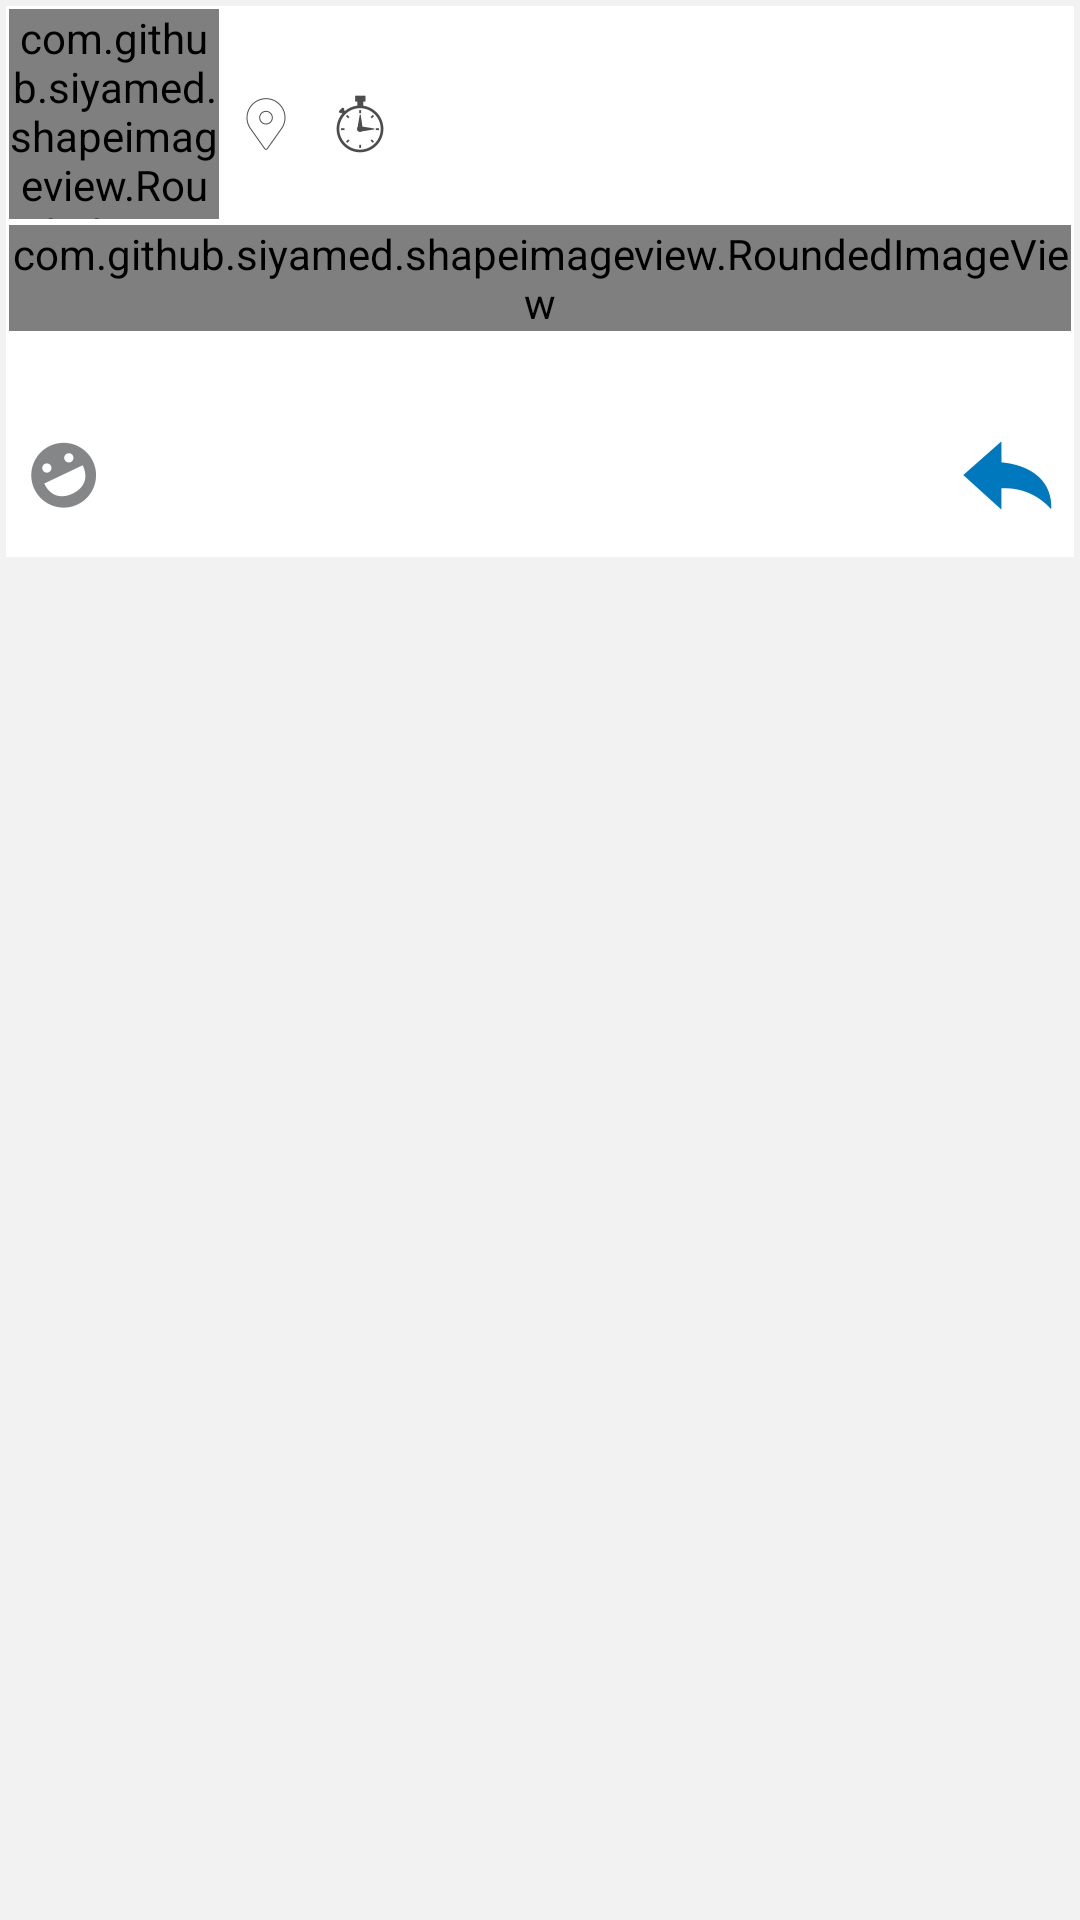

Icons on this 1080 x 1920 Android screen, each with its box as (x1, y1, x2, y2):
feed clock: (336, 95, 384, 153)
feed mapicon: (246, 98, 286, 150)
feed reply: (963, 441, 1052, 510)
